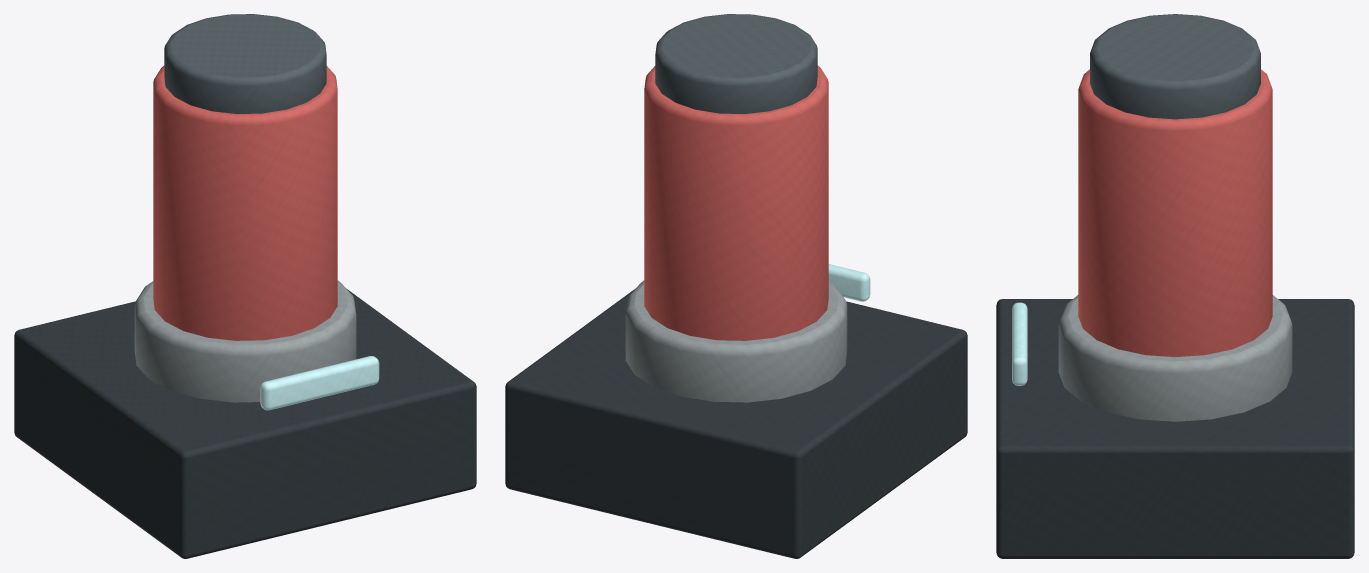
File: FloorWarningBeacon.glb
3 views of the same model, side by side, from view 1: azimuth 30°, elevation 25°; view 2: azimuth 150°, elevation 25°; view 3: azimuth 270°, elevation 25° (orthographic). The views are drawn at different scales.
Parts seen in each view (by area): view 1: FloorWarningBeacon_Mesh; view 2: FloorWarningBeacon_Mesh; view 3: FloorWarningBeacon_Mesh.
Boxes of the visible parts, x1=… form: FloorWarningBeacon_Mesh: x1=14, y1=14, x2=476, y2=558; FloorWarningBeacon_Mesh: x1=505, y1=14, x2=967, y2=558; FloorWarningBeacon_Mesh: x1=996, y1=14, x2=1354, y2=558.
Size of the model in its own units: 0.46 by 0.62 by 0.46.
Materials: 5 (5 with a texture image).
